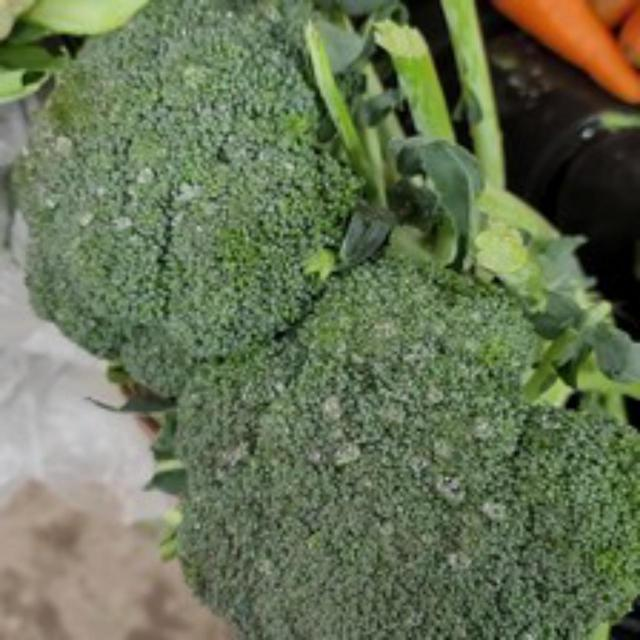broccoli: (166, 260, 636, 637)
